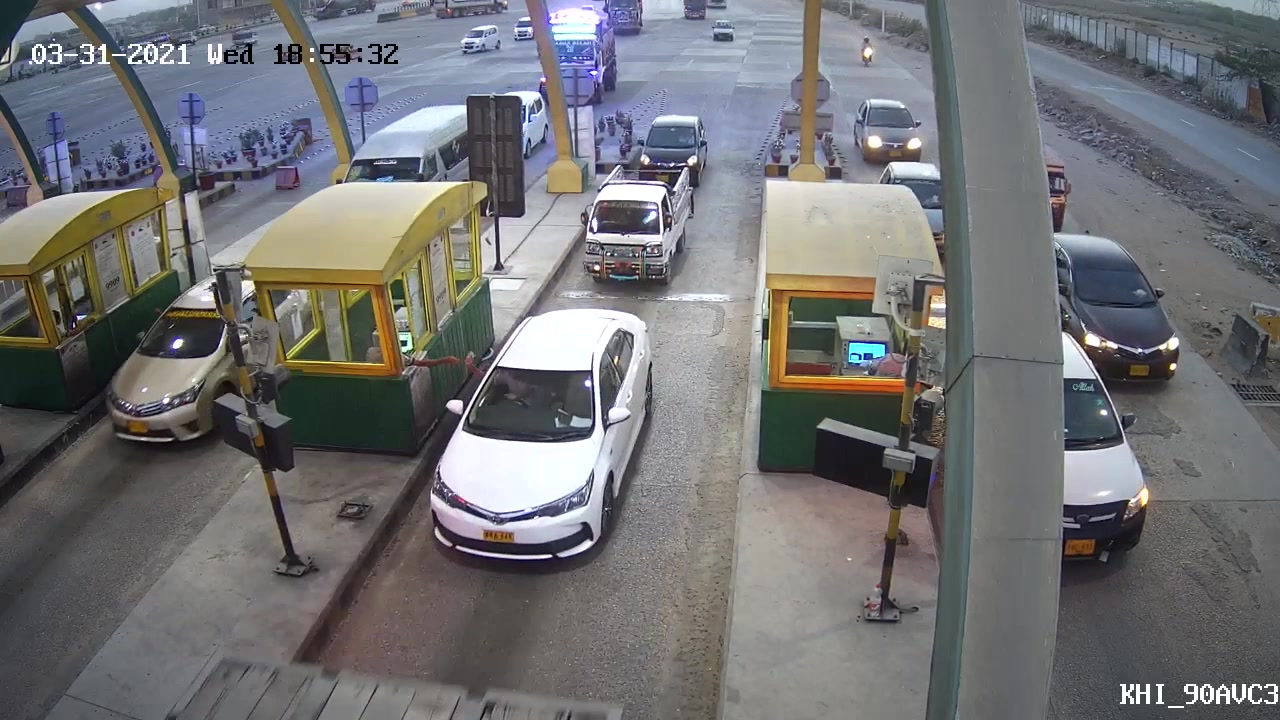F1: (423, 307, 655, 573), (578, 163, 696, 289)
